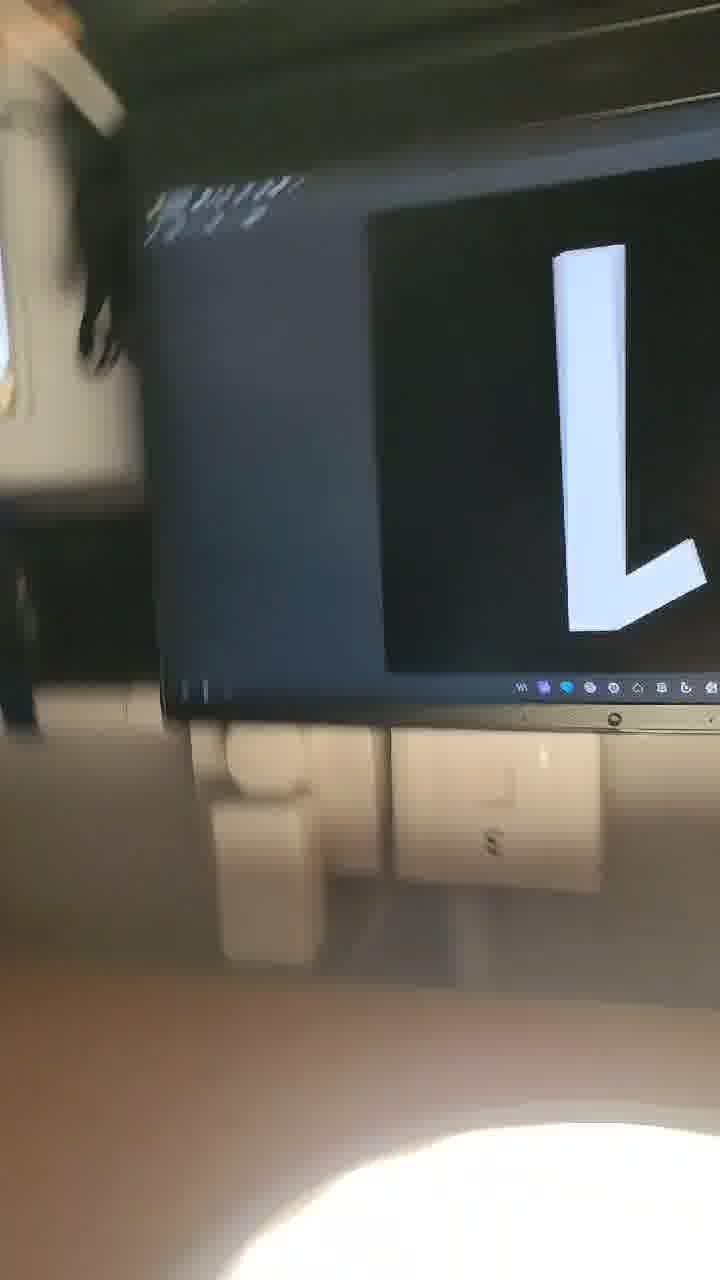one: (437, 160, 715, 660)
